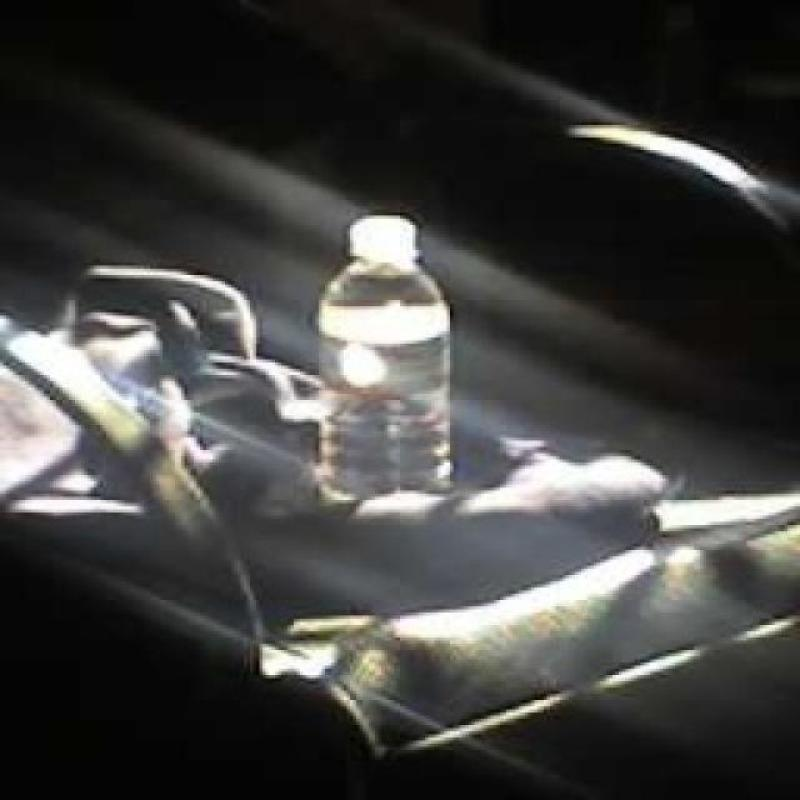botella: (316, 216, 456, 496)
